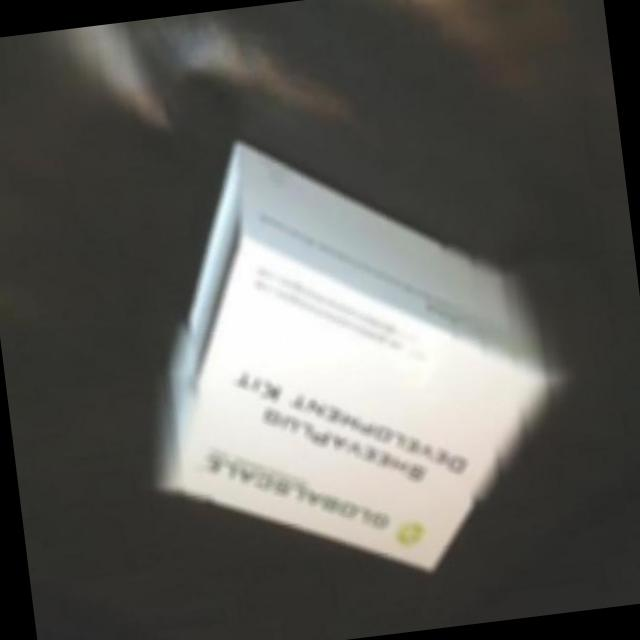box: (119, 113, 574, 598)
